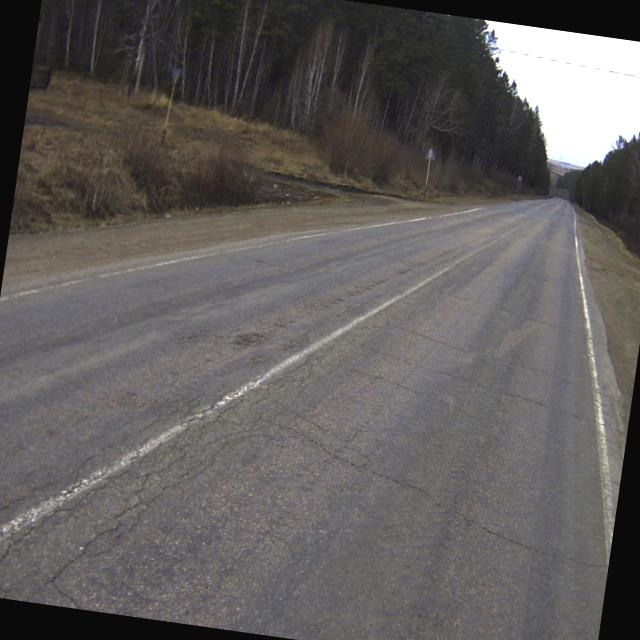road: (0, 197, 623, 640)
